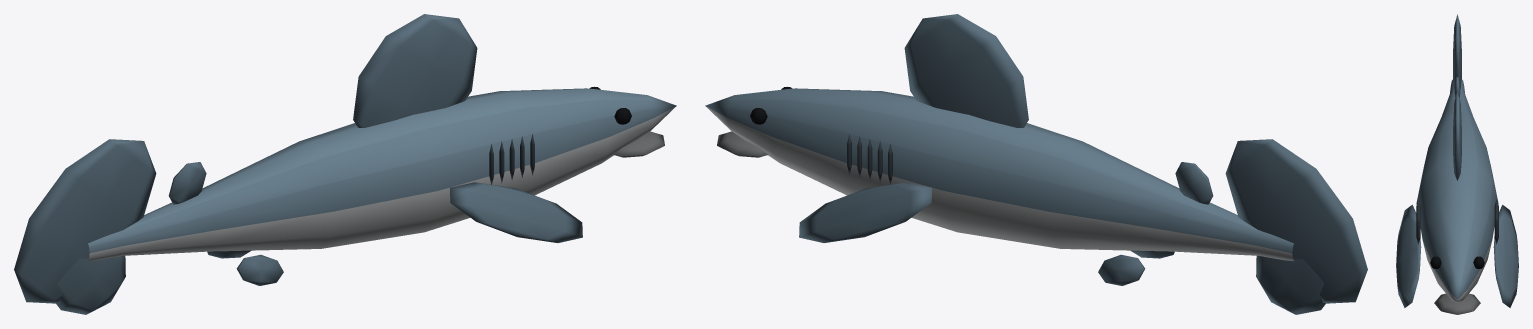
File: shark.glb
3 views of the same model, side by side, from view 1: azimuth 30°, elevation 25°; view 2: azimuth 150°, elevation 25°; view 3: azimuth 270°, elevation 25° (orthographic). The views are drawn at different scales.
Visible parts, largest first — view 1: shark; view 2: shark; view 3: shark.
Part boxes in pixels (left/top/right/bottom): shark: left=14, top=14, right=676, bottom=314; shark: left=705, top=14, right=1367, bottom=314; shark: left=1396, top=14, right=1518, bottom=314.
Size of the model in its own units: 2.91 by 0.956 by 0.6288.
